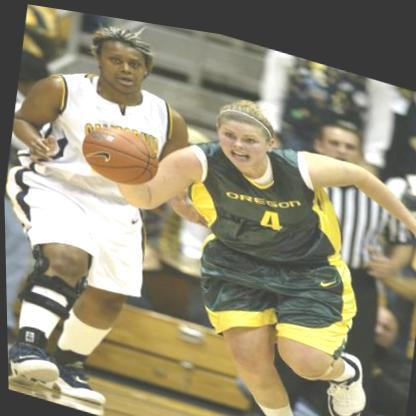basketball: (79, 116, 162, 193)
